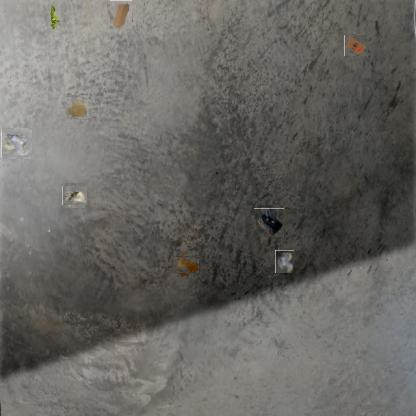dirty: (2, 129, 32, 158), (254, 208, 284, 237), (109, 2, 134, 28), (64, 184, 86, 207), (344, 34, 367, 56), (275, 250, 294, 273), (48, 4, 62, 32)
liquid: (68, 96, 90, 118), (176, 253, 198, 275)
